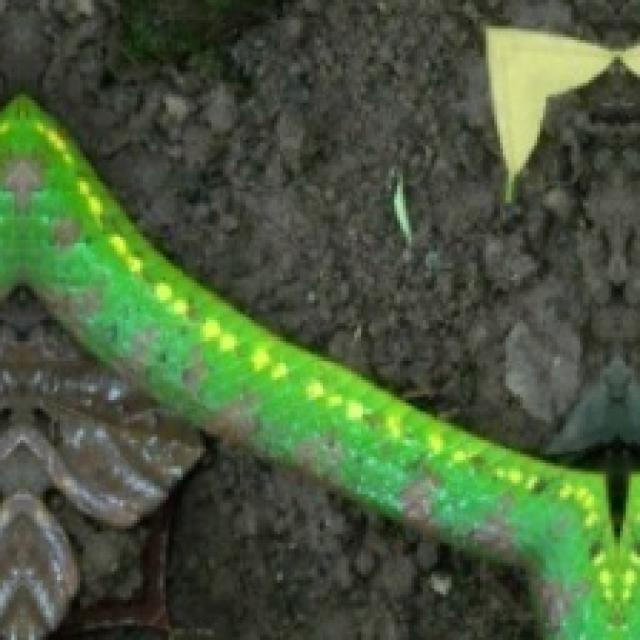philippine pitviper: (0, 94, 637, 637)
